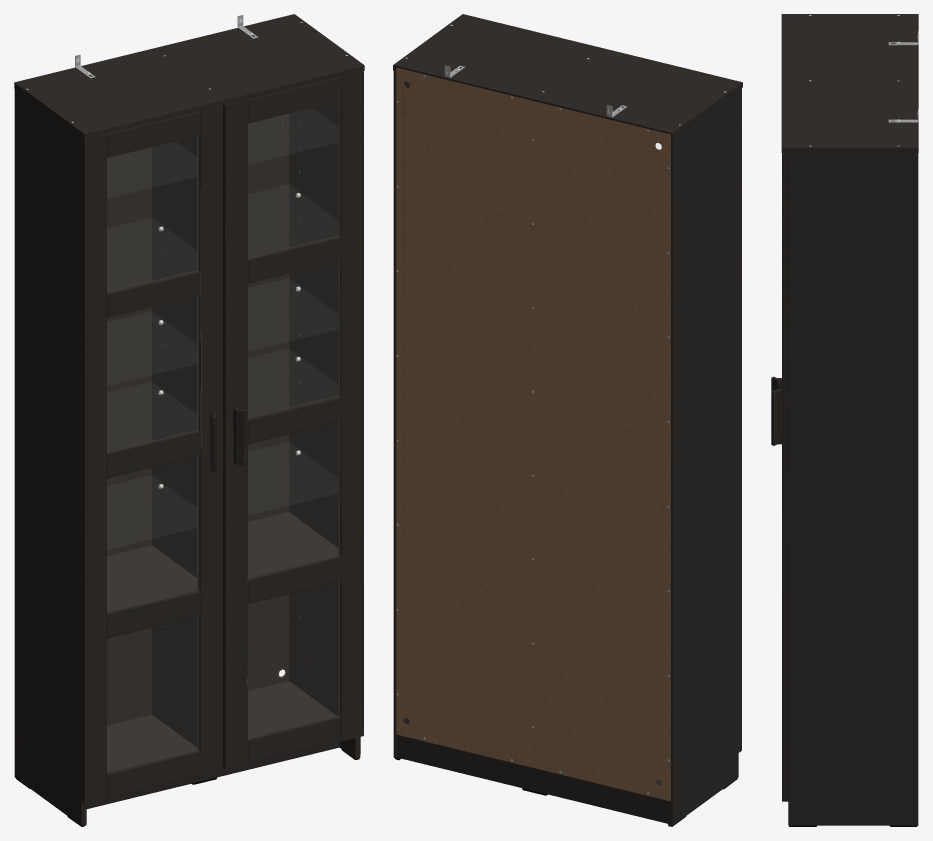
3 renders of one model, left to right at view 1: azimuth 30°, elevation 25°; view 2: azimuth 150°, elevation 25°; view 3: azimuth 270°, elevation 25°, orthographic. The views are drawn at different scales.
Parts seen in each view (by area): view 1: 1, 2; view 2: 1; view 3: 1.
Boxes of the visible parts, box(x1,y1,x2,y2) form: 1: box(14, 14, 364, 826); 2: box(107, 108, 337, 549); 1: box(393, 14, 742, 826); 1: box(771, 14, 918, 826).
Bounding box in the file's own units: 0.8024 × 1.94 × 0.3747.
Materials: 2 (2 with a texture image).
